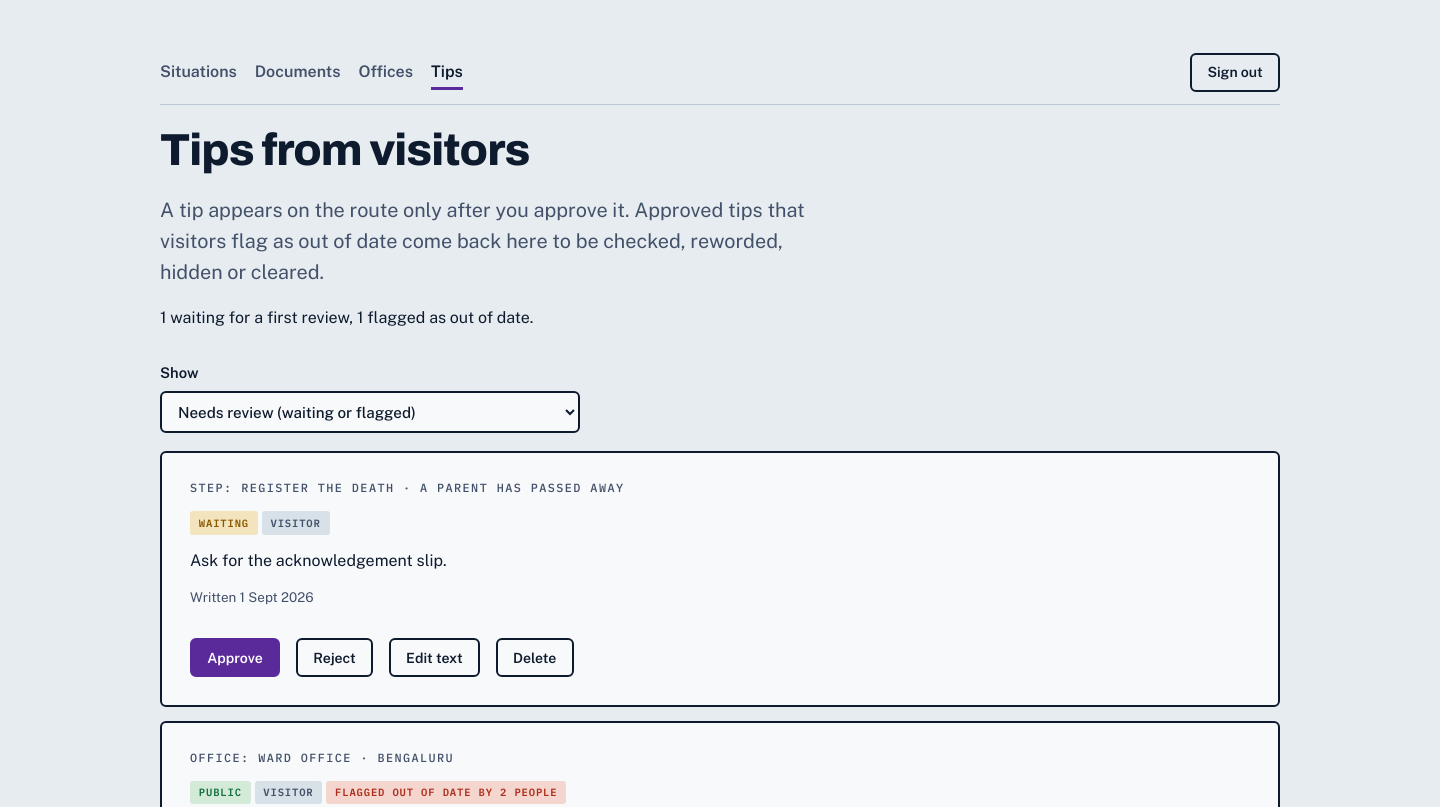
Admin: tips › shows why a reworded tip was refused and keeps the editor open
Click the button "Edit text".
click(434, 658)  # box left=389, top=638, right=480, bottom=677
(page scrolled)
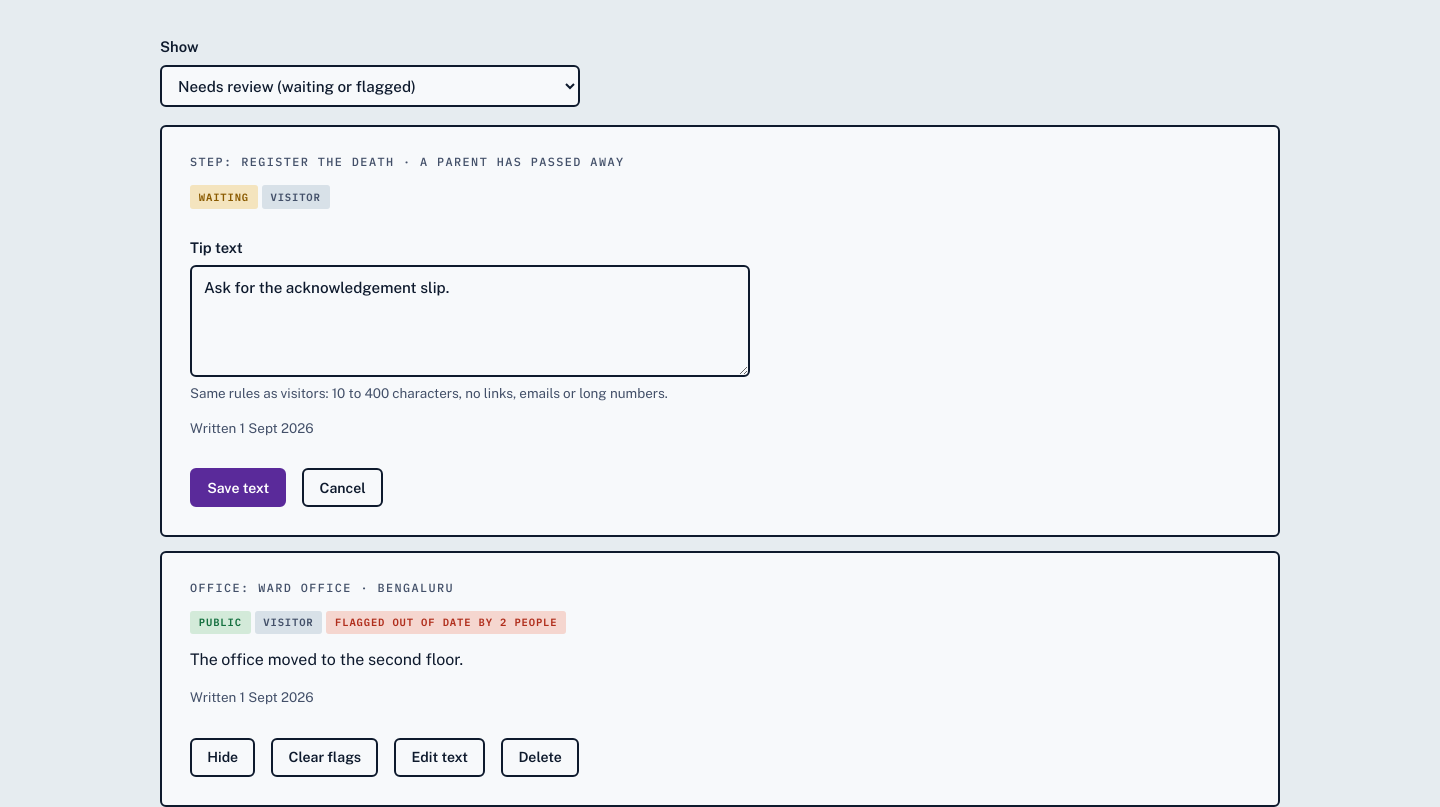
Click the button "Save text".
click(238, 488)  # box left=190, top=468, right=286, bottom=507
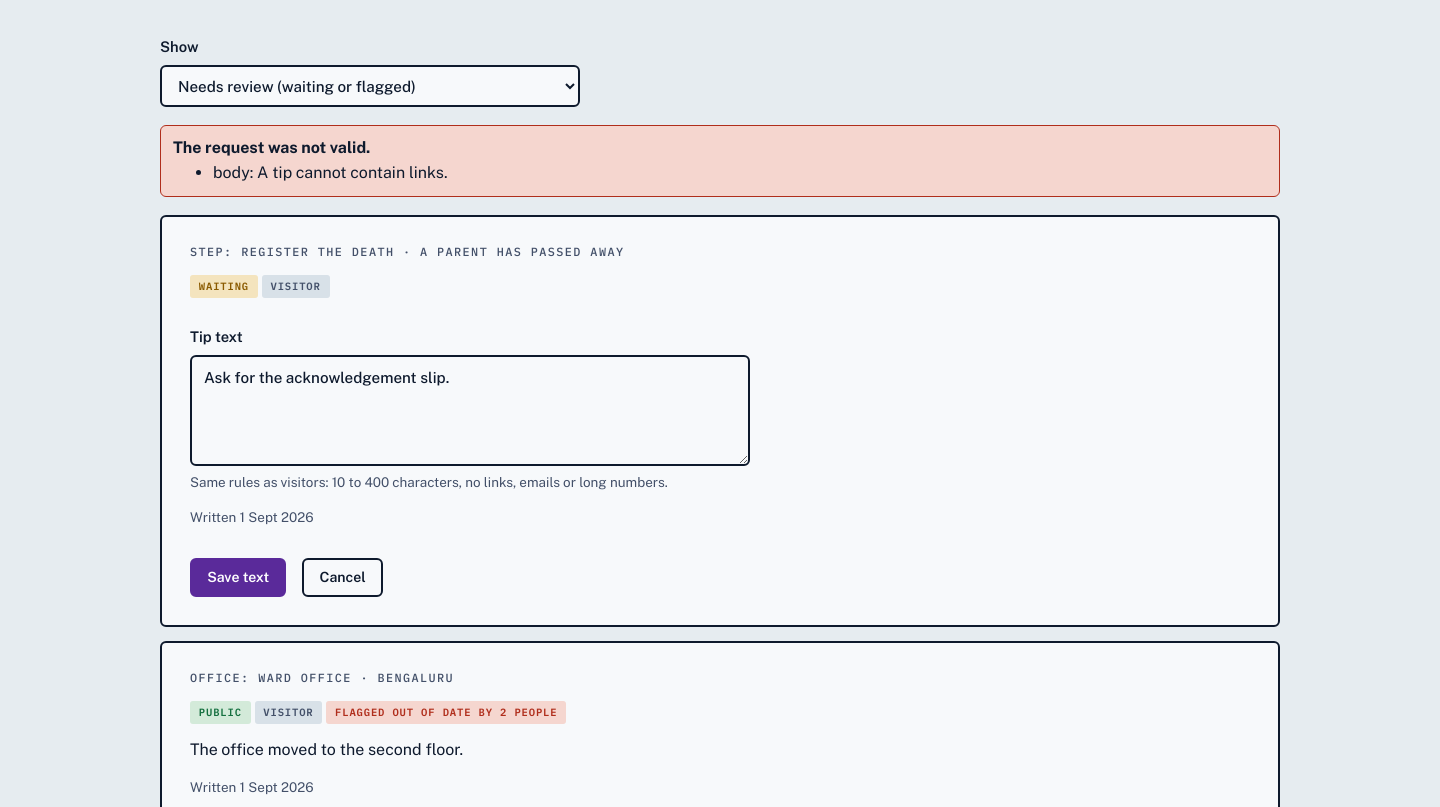
Now the text box labelled "Tip text" is shown, box left=190, top=355, right=750, bottom=466
Now the message "The request was not valid. body: A tip cannot contain links." is shown, box left=160, top=126, right=1280, bottom=197
